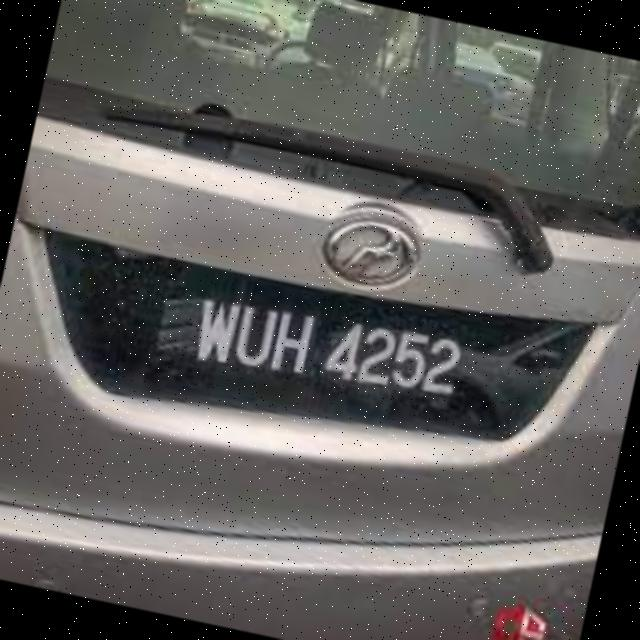License_Plate: (55, 215, 566, 508)
car: (1, 1, 640, 640)
